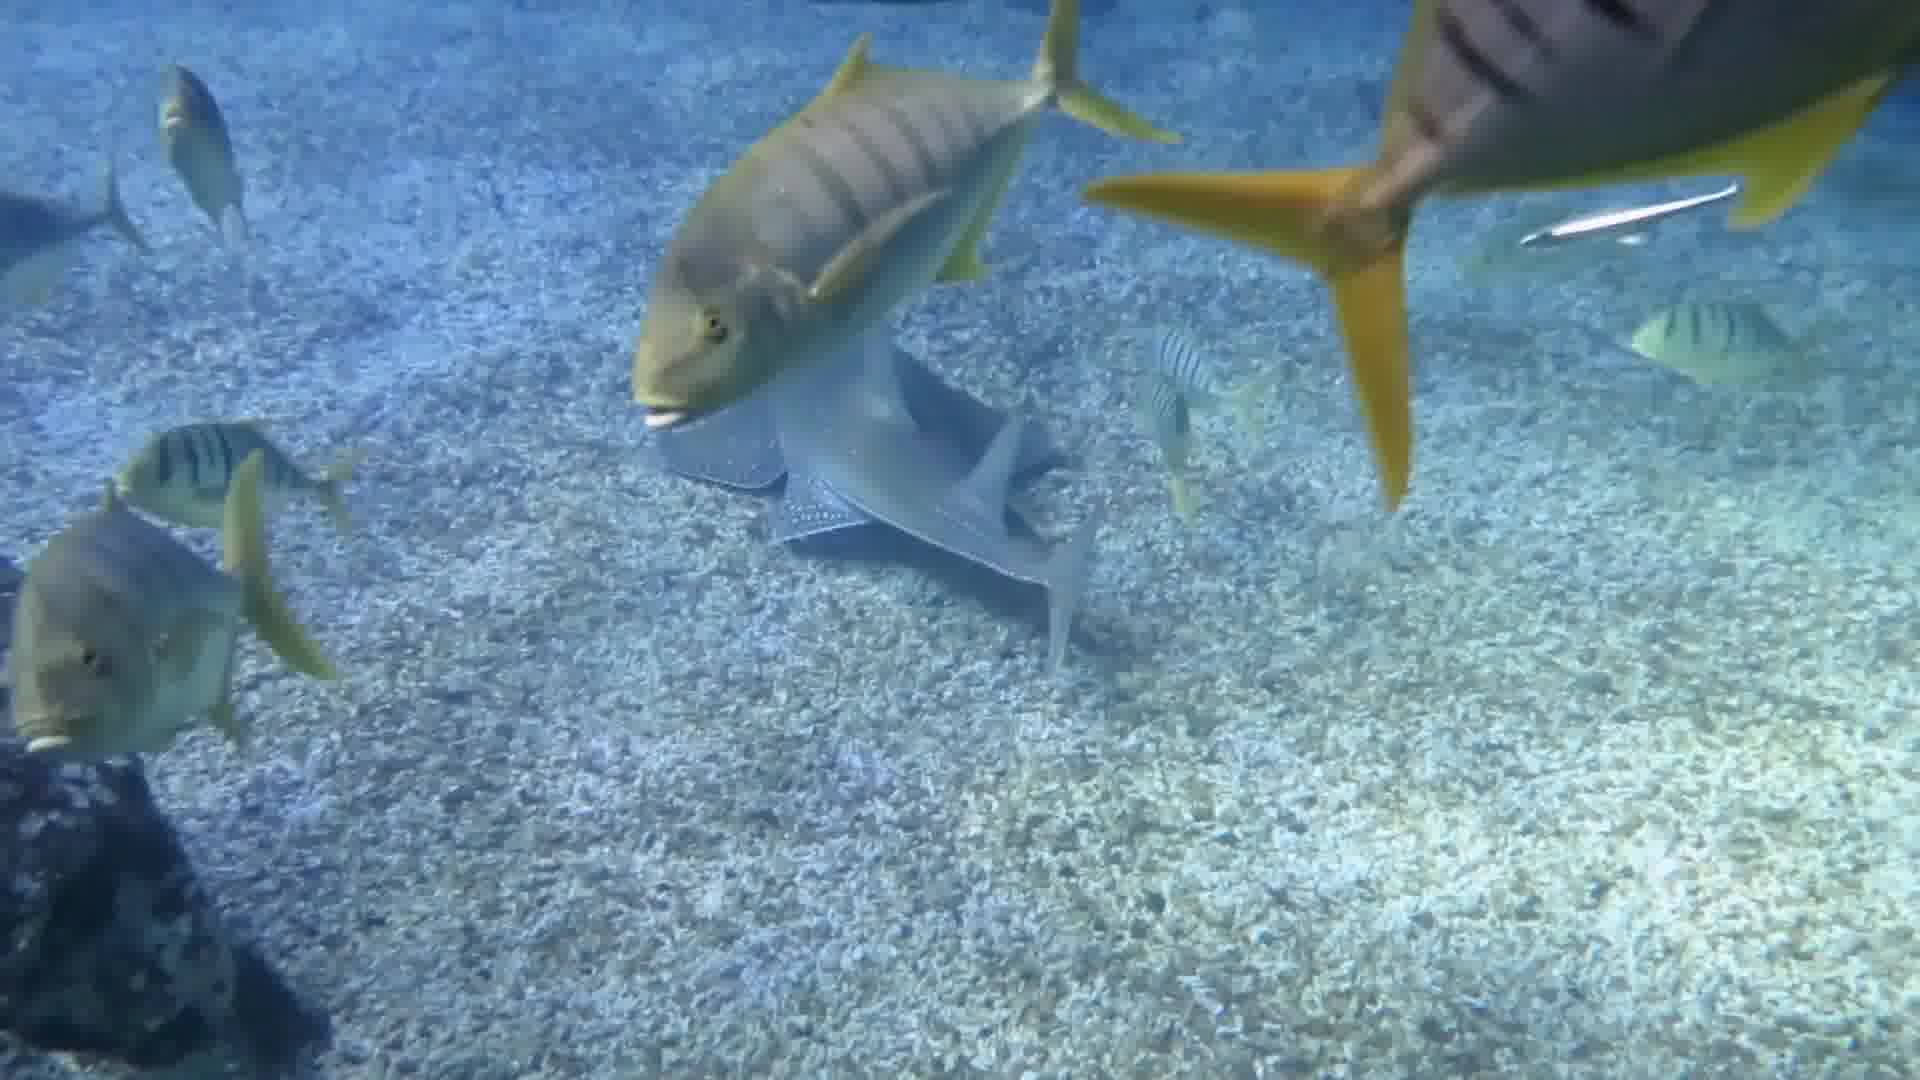Rhychobatus djiddensis: (757, 339, 1087, 618)
